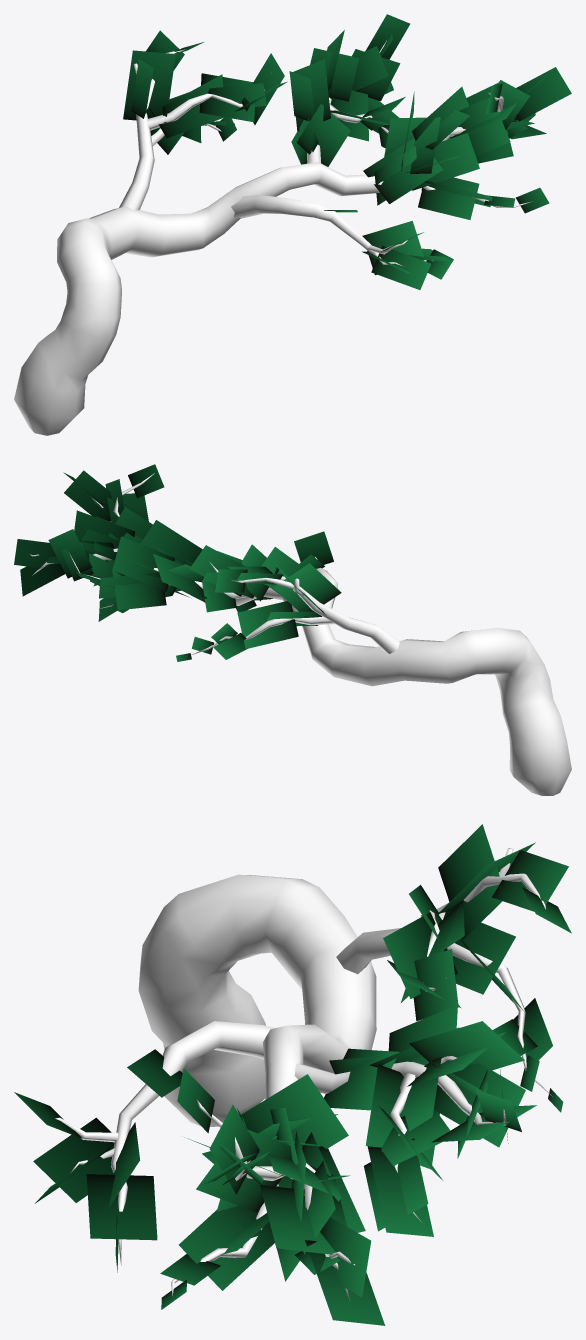
The model's file is SM_TreeWindswept04.fbx.
3 views of the same model, one above another, from view 1: azimuth 30°, elevation 25°; view 2: azimuth 150°, elevation 25°; view 3: azimuth 270°, elevation 25° (orthographic). The views are drawn at different scales.
Visible parts, largest first — view 1: SM_TreeWindswept04_LOD0; view 2: SM_TreeWindswept04_LOD0; view 3: SM_TreeWindswept04_LOD0.
Part boxes in pixels (x1,y1,x2,y2): SM_TreeWindswept04_LOD0: [14, 14, 571, 435]; SM_TreeWindswept04_LOD0: [14, 464, 571, 795]; SM_TreeWindswept04_LOD0: [14, 824, 571, 1325].
Bounding box in the file's own units: 1801 × 819 × 957.
